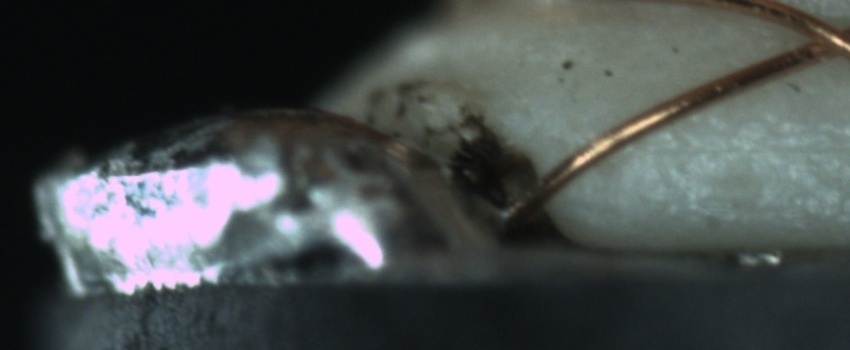CL: (780, 7, 850, 68)
DL: (636, 114, 849, 175)
